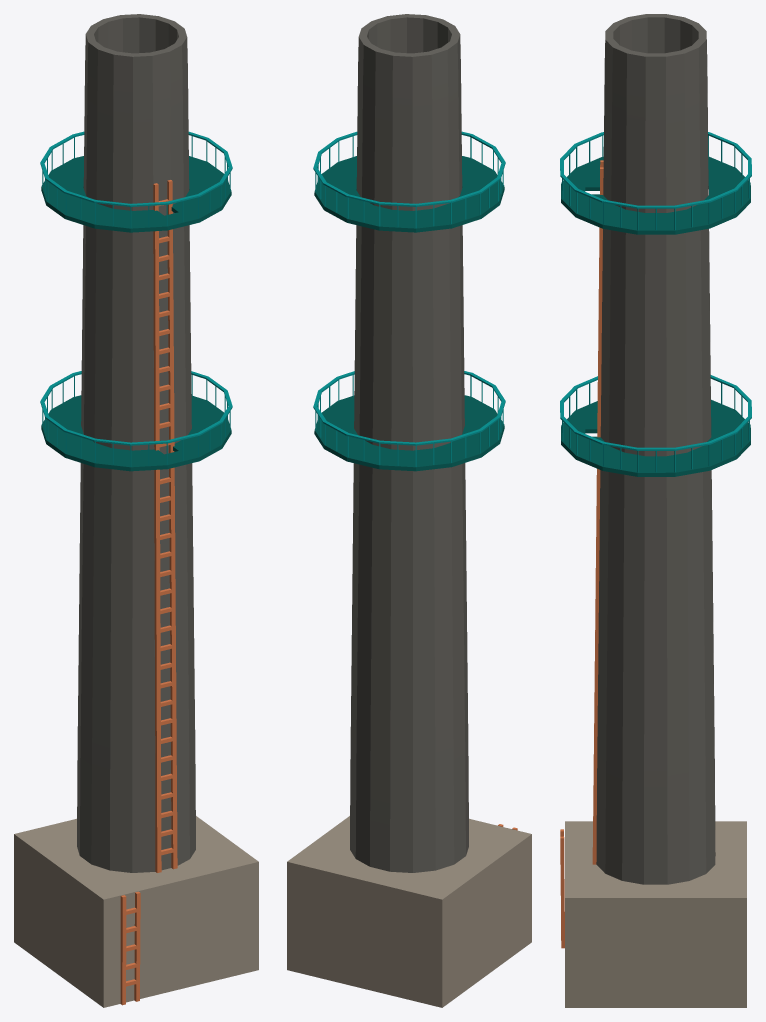
Rendered from SM_CHIMNEY_01.glb.
3 renders of one model, left to right at view 1: azimuth 30°, elevation 25°; view 2: azimuth 150°, elevation 25°; view 3: azimuth 270°, elevation 25°, orthographic.
Visible parts, largest first — view 1: SM_CHIMNEY_01; view 2: SM_CHIMNEY_01; view 3: SM_CHIMNEY_01.
Boxes of the visible parts, bbox=[...] form: SM_CHIMNEY_01: bbox=[14, 14, 258, 1007]; SM_CHIMNEY_01: bbox=[287, 14, 531, 1007]; SM_CHIMNEY_01: bbox=[560, 14, 751, 1007].
Size of the model in its own units: 6.33 by 34 by 6.33.
1 material, 1 textured.
